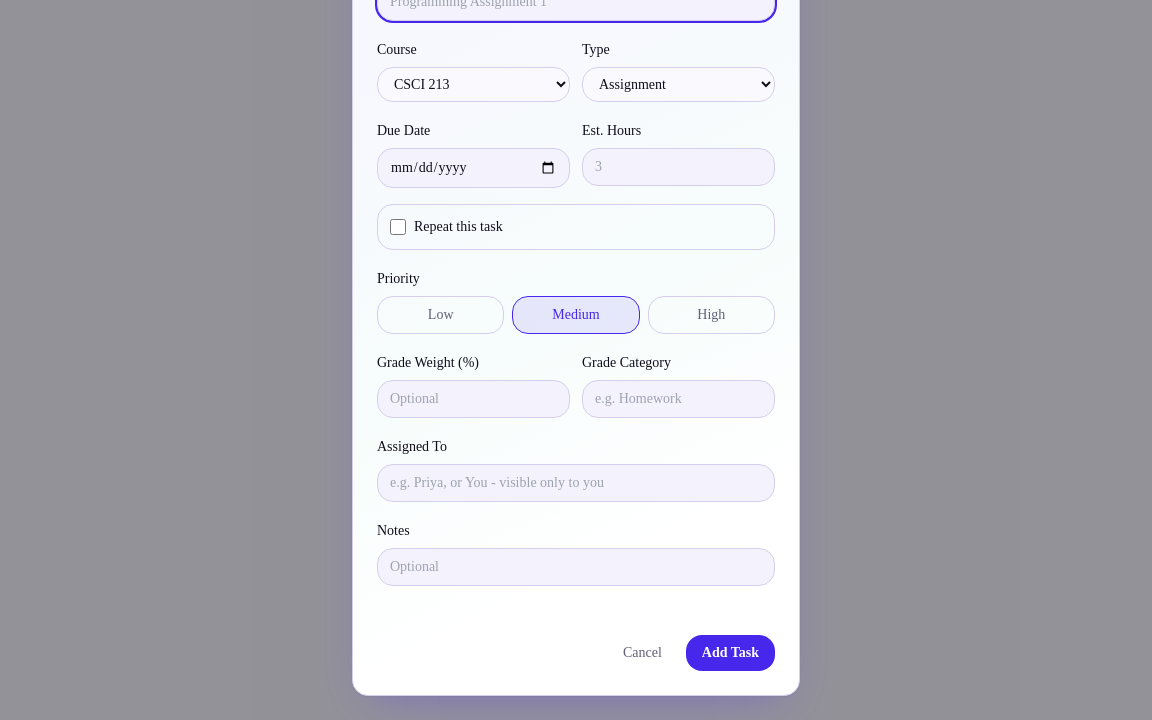
Test: TaskFormModal › blocks submit and shows an error when title and due date are empty
(page scrolled)
Click the button "Add Task": {"x": 730, "y": 653} [686,635,775,671]
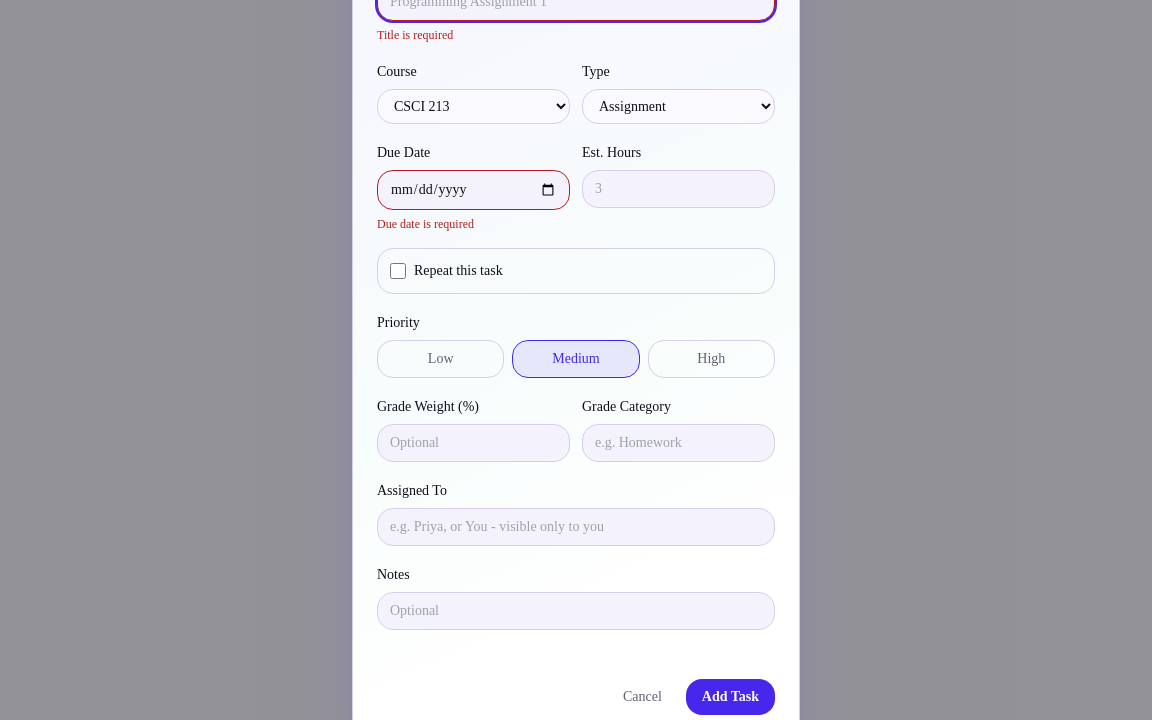
expect the text "Title is required" is shown: met, box [377,28,453,42]
expect the text "Due date is required" is shown: met, box [377,217,474,231]
